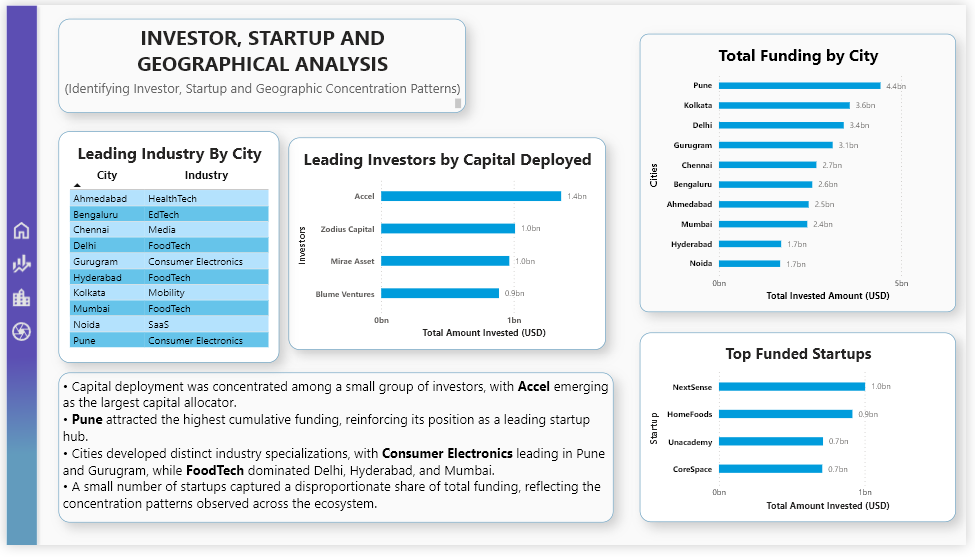

What the dashboard file says about the page in this screenshot:
{"tool":"powerbi","page":{"name":"Investor,Startup and Geographical Analysis","canvas":[1280,720],"ordinal":2},"visuals":[{"type":"clusteredBarChart","title":"Total Funding by City","fields":{"Category":["investor_funding.City"],"Y":["Sum(investor_funding.InvestmentAmount_USD)"]},"box":[844.3,38.6,421.4,371.4],"z":0},{"type":"clusteredBarChart","title":"Leading Investors by Capital Deployed","fields":{"Category":["investor_funding.Investors"],"Y":["Sum(investor_funding.InvestmentAmount_USD)"]},"box":[377.1,177.1,422.9,282.9],"z":1000},{"type":"actionButton","box":[0,365.2,41.4,50],"z":2000},{"type":"actionButton","box":[0,320.5,41.4,50],"z":3000},{"type":"actionButton","box":[0,275.7,41.4,50],"z":4000},{"type":"actionButton","box":[0,410,41.4,50],"z":5000},{"type":"textbox","title":"INVESTOR, STARTUP AND GEOGRAPHICAL ANALYSIS","box":[70,18.6,542.9,125.7],"z":6000},{"type":"tableEx","title":"Leading Industry By City","fields":{"Values":["investor_funding.City","investor_funding.Industry"]},"box":[70,168.6,294.3,308.6],"z":7000},{"type":"clusteredBarChart","title":"Top Funded Startups","fields":{"Category":["investor_funding.Startup"],"Y":["Sum(investor_funding.InvestmentAmount_USD)"]},"box":[844.3,437.1,421.4,252.9],"z":8000},{"type":"textbox","box":[70,490,740,200],"z":9000}]}

Visuals, with their boxes on the page's 1280x720 design canvas (x1, y1, x2, y2). These are canvas units, not pixel positions in the 975x557 screenshot, which may show the page scaled, cropped or inside an application window:
"Total Funding by City" clusteredBarChart: detection(844, 39, 1266, 410)
"Leading Investors by Capital Deployed" clusteredBarChart: detection(377, 177, 800, 460)
actionButton: detection(0, 365, 41, 415)
actionButton: detection(0, 320, 41, 370)
actionButton: detection(0, 276, 41, 326)
actionButton: detection(0, 410, 41, 460)
"INVESTOR, STARTUP AND GEOGRAPHICAL ANALYSIS" textbox: detection(70, 19, 613, 144)
"Leading Industry By City" tableEx: detection(70, 169, 364, 477)
"Top Funded Startups" clusteredBarChart: detection(844, 437, 1266, 690)
textbox: detection(70, 490, 810, 690)
